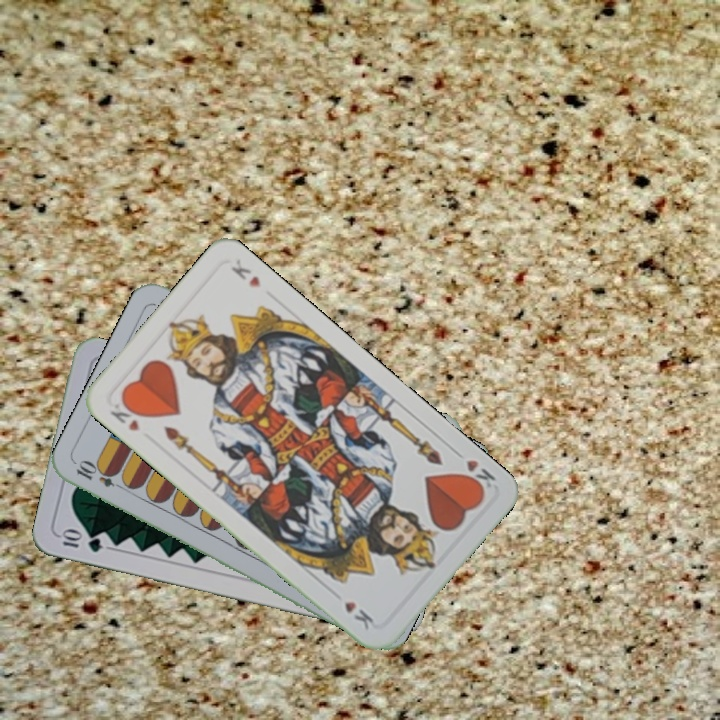E10: (72, 458, 129, 493)
G10: (56, 527, 106, 555)
HK: (449, 445, 499, 497), (106, 395, 146, 434)
